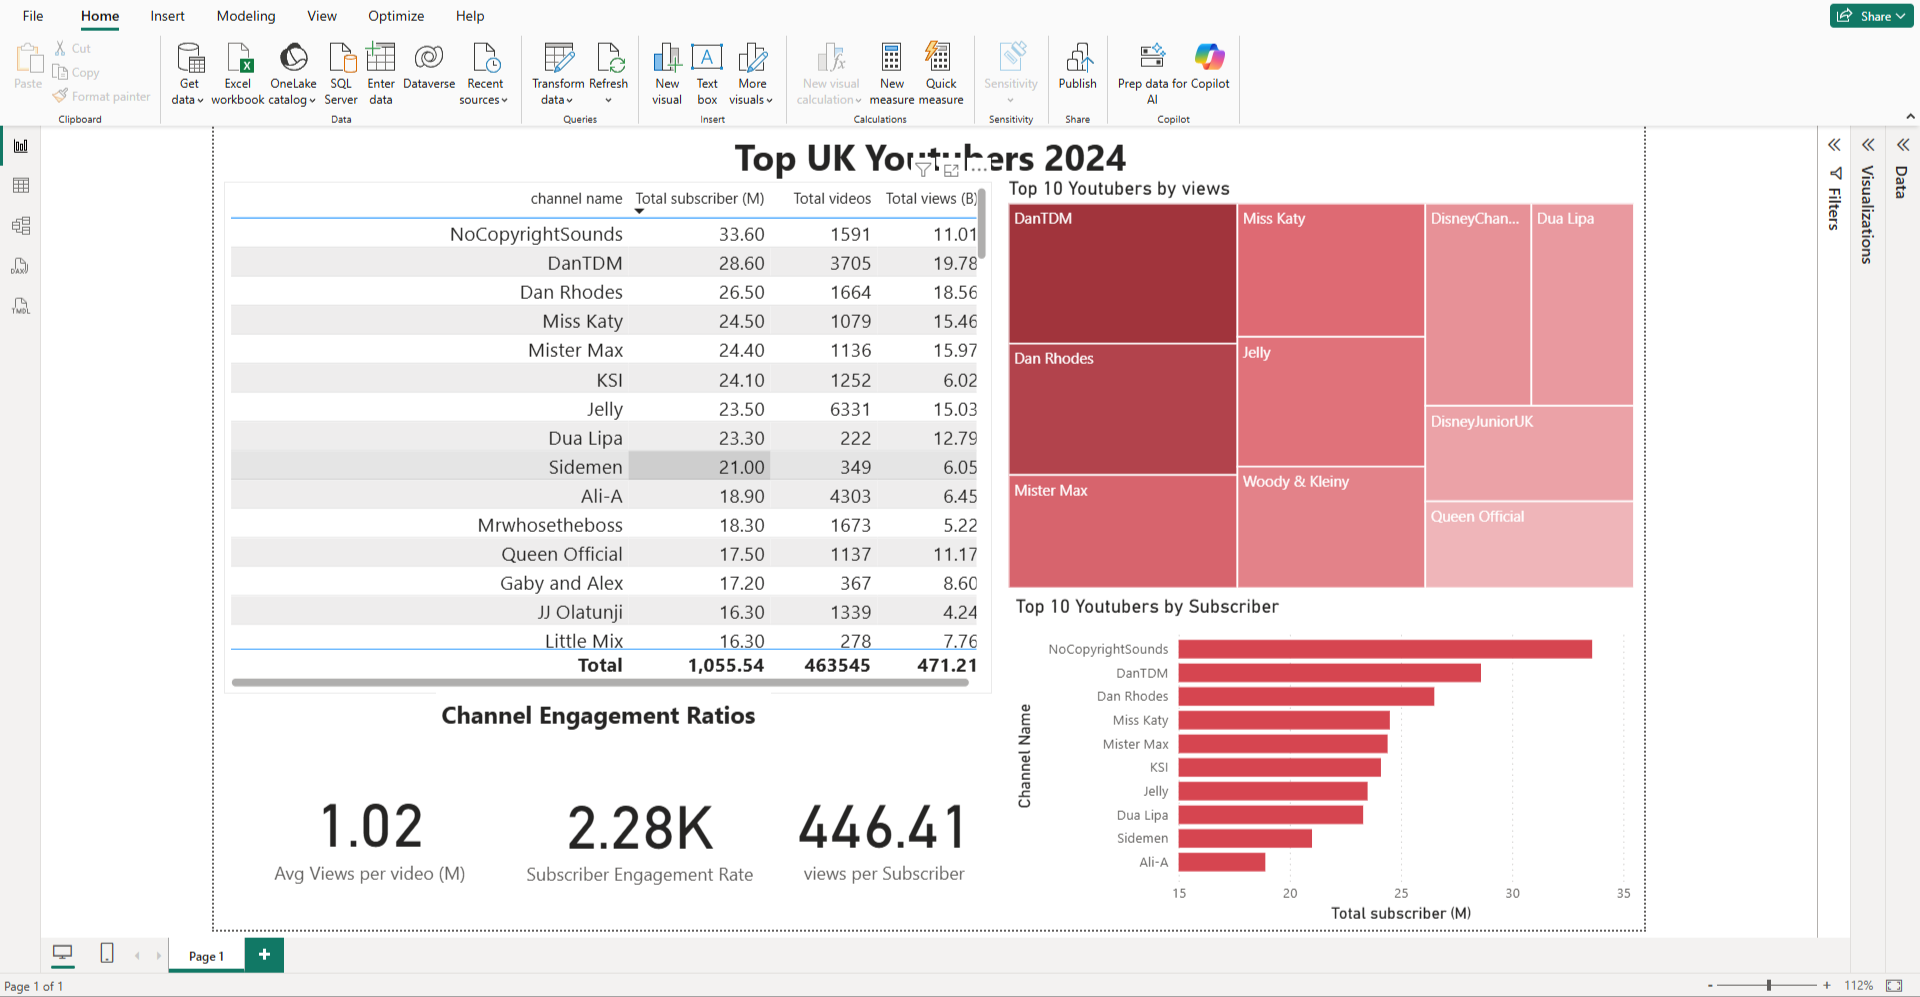

What the dashboard file says about the page in this screenshot:
{"tool":"powerbi","page":{"name":"Page 1","canvas":[1280,720],"ordinal":0},"visuals":[{"type":"textbox","box":[461,0,445.5,56.4],"z":0},{"type":"tableEx","fields":{"Values":["view_uk_youtubers_2024.channel_name","view_uk_youtubers_2024.Total subscriber (M)","view_uk_youtubers_2024.Total videos","view_uk_youtubers_2024.Total views (B)"]},"box":[12.5,56.4,694,458.5],"z":1000},{"type":"treemap","title":"Top 10 Youtubers by views","fields":{"Group":["view_uk_youtubers_2024.channel_name"],"Values":["view_uk_youtubers_2024.Total views (B)"]},"box":[706.1,45.7,570,373.5],"z":2000},{"type":"card","fields":{"Values":["view_uk_youtubers_2024.Avg Views per video (M)"]},"box":[0,540.8,279.1,179],"z":3000},{"type":"card","fields":{"Values":["view_uk_youtubers_2024.Subscriber Engagement Rate"]},"box":[269.4,544.7,223.7,175.1],"z":4000},{"type":"card","fields":{"Values":["view_uk_youtubers_2024.views per Subscriber"]},"box":[484.4,541.8,231.5,178],"z":5000},{"type":"clusteredBarChart","title":"Top 10 Youtubers by Subscriber ","fields":{"Category":["view_uk_youtubers_2024.channel_name"],"Y":["view_uk_youtubers_2024.Total subscriber (M)"]},"box":[712.9,420.2,561.2,298.6],"z":6000},{"type":"textbox","box":[198.4,507.7,299.6,42.8],"z":7000}]}

Visuals, with their boxes on the page's 1280x720 design canvas (x1, y1, x2, y2). These are canvas units, not pixel positions in the 1920x997 screenshot, which may show the page scaled, cropped or inside an application window:
textbox: <box>461,0,906,56</box>
tableEx - view_uk_youtubers_2024.channel_name x view_uk_youtubers_2024.Total subscriber (M): <box>12,56,706,515</box>
"Top 10 Youtubers by views" treemap: <box>706,46,1276,419</box>
card - view_uk_youtubers_2024.Avg Views per video (M): <box>0,541,279,720</box>
card - view_uk_youtubers_2024.Subscriber Engagement Rate: <box>269,545,493,720</box>
card - view_uk_youtubers_2024.views per Subscriber: <box>484,542,716,720</box>
"Top 10 Youtubers by Subscriber " clusteredBarChart: <box>713,420,1274,719</box>
textbox: <box>198,508,498,550</box>
